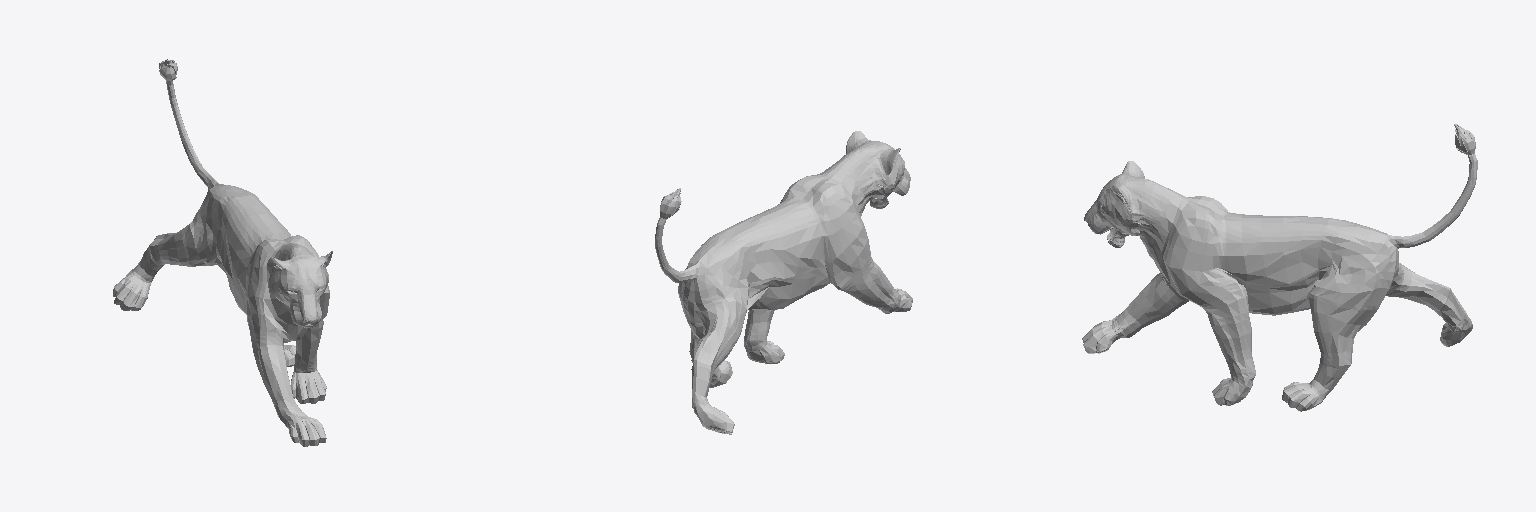
Rendered from tiger_deformed_left15(linear).obj.
3 renders of one model, left to right at view 1: azimuth 30°, elevation 25°; view 2: azimuth 150°, elevation 25°; view 3: azimuth 270°, elevation 25°, orthographic.
Visible parts, largest first — view 1: object0, object11, object2, object13, object6, object8; view 2: object0, object2, object3, object11, object5, object19, object21; view 3: object2, object7, object1, object0, object11, object12, object8.
Part boxes in pixels (left/top/right/bottom): object0: left=133, top=60, right=300, bottom=425; object11: left=267, top=252, right=331, bottom=325; object2: left=165, top=59, right=332, bottom=372; object13: left=114, top=275, right=152, bottom=307; object6: left=291, top=370, right=326, bottom=399; object8: left=283, top=413, right=325, bottom=439; object0: left=656, top=144, right=899, bottom=406; object2: left=655, top=131, right=876, bottom=362; object3: left=683, top=281, right=720, bottom=387; object11: left=876, top=141, right=910, bottom=195; object5: left=749, top=310, right=774, bottom=342; object19: left=693, top=401, right=734, bottom=434; object21: left=744, top=332, right=784, bottom=363; object2: left=1115, top=124, right=1477, bottom=399; object7: left=1113, top=274, right=1188, bottom=338; object1: left=1386, top=254, right=1462, bottom=330; object0: left=1113, top=128, right=1475, bottom=322; object11: left=1084, top=174, right=1127, bottom=233; object12: left=1284, top=382, right=1318, bottom=408; object8: left=1082, top=318, right=1113, bottom=349.
Size of the model in its own units: 168 by 362 by 492.